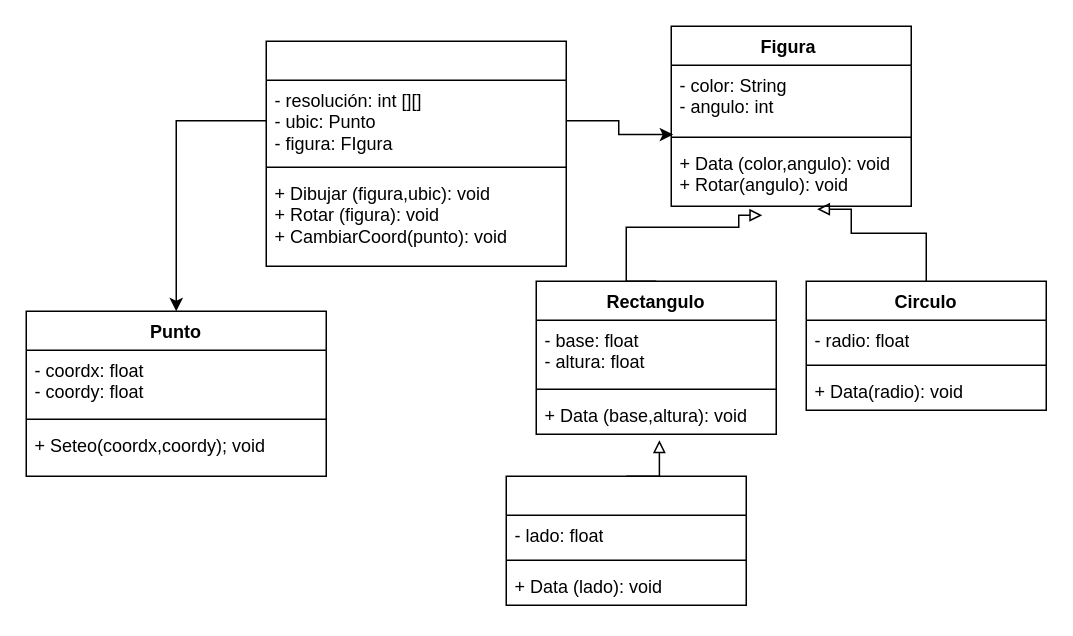
This 1073x636 diagram has some shape labels left out. Here are the shapes that lost their labels. From the top down, the box of each, then its label:
(265, 40, 566, 266): Pantalla
(505, 475, 746, 605): Cuadrado
